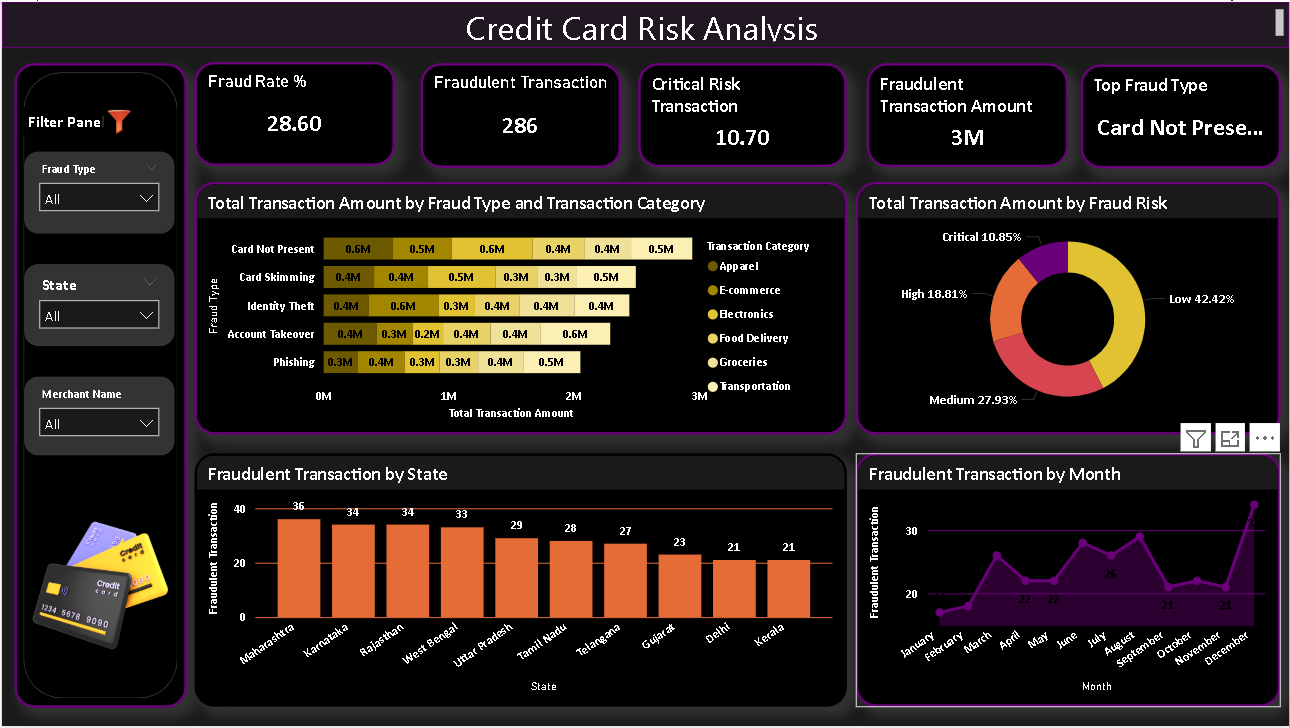

The dashboard page shown, as its layout file describes it:
{"tool":"powerbi","page":{"name":"Page 1","canvas":[1280,720],"ordinal":0},"visuals":[{"type":"textbox","box":[0,0,1280.3,45.3],"z":0},{"type":"shape","box":[12.3,60.4,171.5,640.8],"z":1},{"type":"barChart","fields":{"Y":["Credit Card Fraud Risk Analysis (1).Total Transaction Amount"],"Series":["Credit Card Fraud Risk Analysis (1).Transaction Category"],"Category":["Credit Card Fraud Risk Analysis (1).Fraud Type"]},"box":[191.8,178.6,649.1,250.9],"z":2},{"type":"donutChart","fields":{"Category":["Credit Card Fraud Risk Analysis (1).Fraud Risk"],"Y":["Credit Card Fraud Risk Analysis (1).Total Transaction Amount"]},"box":[849.3,178.6,422.3,250.9],"z":3},{"type":"columnChart","fields":{"Category":["Credit Card Fraud Risk Analysis (1).State"],"Y":["Credit Card Fraud Risk Analysis (1).Fraudulent Transaction"]},"box":[191.8,448.8,649.1,252.1],"z":4},{"type":"lineChart","fields":{"Category":["Credit Card Fraud Risk Analysis (1).Transaction Date.Variation.Date Hierarchy.Month"],"Y":["Credit Card Fraud Risk Analysis (1).Fraudulent Transaction"]},"box":[849,449,422,252],"z":5},{"type":"slicer","fields":{"Values":["Credit Card Fraud Risk Analysis (1).Fraud Type"]},"box":[20.5,148.4,150.8,83.2],"z":6},{"type":"slicer","fields":{"Values":["Credit Card Fraud Risk Analysis (1).State"]},"box":[20.5,259.4,150.8,83.2],"z":7},{"type":"slicer","fields":{"Values":["Credit Card Fraud Risk Analysis (1).Merchant Name"]},"box":[20.5,371.6,150.8,79.6],"z":8},{"type":"textbox","box":[20.5,105,94.1,29],"z":9},{"type":"image","box":[97.7,105,37.4,29],"z":10},{"type":"image","box":[27.7,483.8,143.6,183.4],"z":11},{"type":"card","title":"Fraud Rate %","fields":{"Values":["Credit Card Fraud Risk Analysis (1).Fraud Rate %"]},"box":[191.4,59.7,198.9,103.2],"z":12},{"type":"card","title":"Fraudulent Transaction","fields":{"Values":["Credit Card Fraud Risk Analysis (1).Fraudulent Transaction"]},"box":[416.2,60.3,199.1,103.8],"z":13},{"type":"card","title":"Critical Risk Transaction","fields":{"Values":["Credit Card Fraud Risk Analysis (1).Critical Risk Transaction"]},"box":[632.7,60.9,207.6,103.2],"z":14},{"type":"card","title":"Fraudulent Transaction Amount","fields":{"Values":["Credit Card Fraud Risk Analysis (1).Fradulent Transaction Amount"]},"box":[860.1,60.9,200.1,103.2],"z":15},{"type":"card","title":"Top Fraud Type","fields":{"Values":["Credit Card Fraud Risk Analysis (1).Top Fraud Type"]},"box":[1072.7,62.1,198.9,103.2],"z":16}]}

Visuals, with their boxes in screenshot pixels (x1, y1, x2, y2), scaled from the page's 1280x720 canvas onto the 1290x728 screenshot:
textbox: (0, 0, 1289, 46)
shape: (12, 61, 185, 709)
barChart - Credit Card Fraud Risk Analysis (1).Total Transaction Amount x Credit Card Fraud Risk Analysis (1).Transaction Category: (193, 181, 847, 434)
donutChart - Credit Card Fraud Risk Analysis (1).Fraud Risk x Credit Card Fraud Risk Analysis (1).Total Transaction Amount: (856, 181, 1282, 434)
columnChart - Credit Card Fraud Risk Analysis (1).State x Credit Card Fraud Risk Analysis (1).Fraudulent Transaction: (193, 454, 847, 709)
lineChart - Credit Card Fraud Risk Analysis (1).Transaction Date.Variation.Date Hierarchy.Month x Credit Card Fraud Risk Analysis (1).Fraudulent Transaction: (856, 454, 1281, 709)
slicer - Credit Card Fraud Risk Analysis (1).Fraud Type: (21, 150, 173, 234)
slicer - Credit Card Fraud Risk Analysis (1).State: (21, 262, 173, 346)
slicer - Credit Card Fraud Risk Analysis (1).Merchant Name: (21, 376, 173, 456)
textbox: (21, 106, 115, 135)
image: (98, 106, 136, 135)
image: (28, 489, 173, 675)
"Fraud Rate %" card: (193, 60, 393, 165)
"Fraudulent Transaction" card: (419, 61, 620, 166)
"Critical Risk Transaction" card: (638, 62, 847, 166)
"Fraudulent Transaction Amount" card: (867, 62, 1068, 166)
"Top Fraud Type" card: (1081, 63, 1282, 167)
